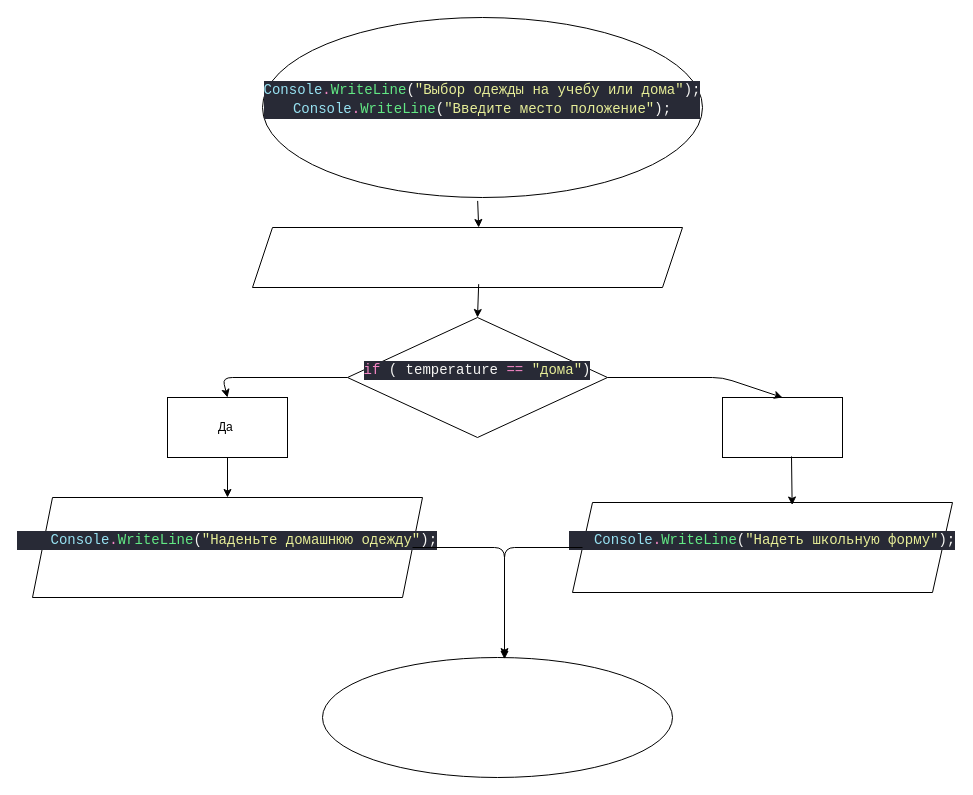
This 973x795 diagram has some shape labels left out. Here are the shapes that lost their labels. From the top down, the centre of each, then its label:
(x=467, y=257): int temperature = Convert . ToString ( Console . ReadLine ());
(x=782, y=427): Нет
(x=497, y=717): Console . WriteLine ( " Хорошего дня " );
